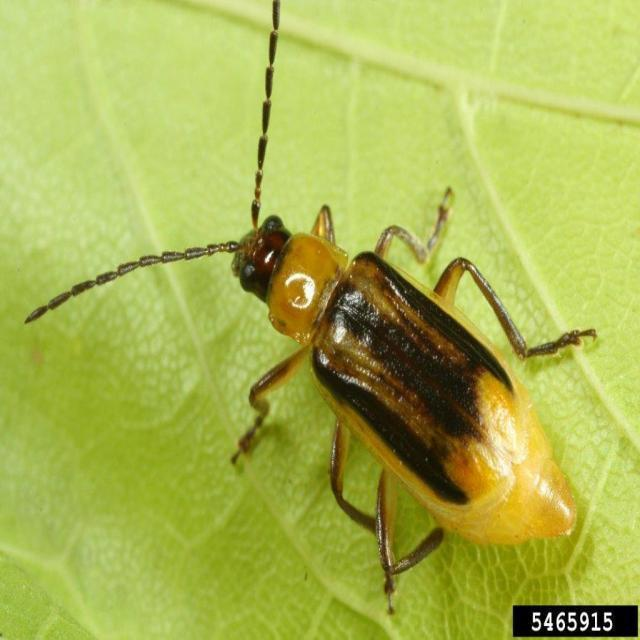trips: (23, 0, 596, 618)
